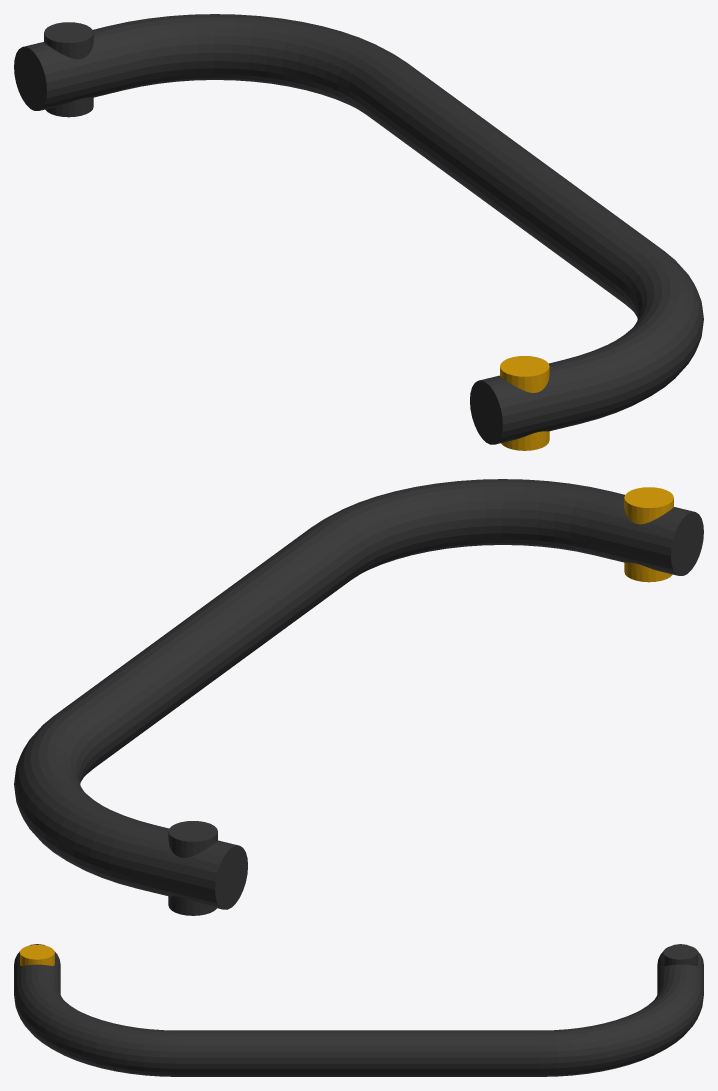
File: bumper.dae
3 views of the same model, one above another, from view 1: azimuth 30°, elevation 25°; view 2: azimuth 150°, elevation 25°; view 3: azimuth 270°, elevation 25° (orthographic). The views are drawn at different scales.
Parts seen in each view (by area): view 1: Shape_IndexedFaceSet.005; view 2: Shape_IndexedFaceSet.005; view 3: Shape_IndexedFaceSet.005.
Boxes of the visible parts, x1,y1,x2,y2 form: Shape_IndexedFaceSet.005: (14,14,703,450); Shape_IndexedFaceSet.005: (14,479,703,915); Shape_IndexedFaceSet.005: (14,944,703,1076).
Bounding box in the file's own units: 0.1267 × 0.3754 × 0.0314.
